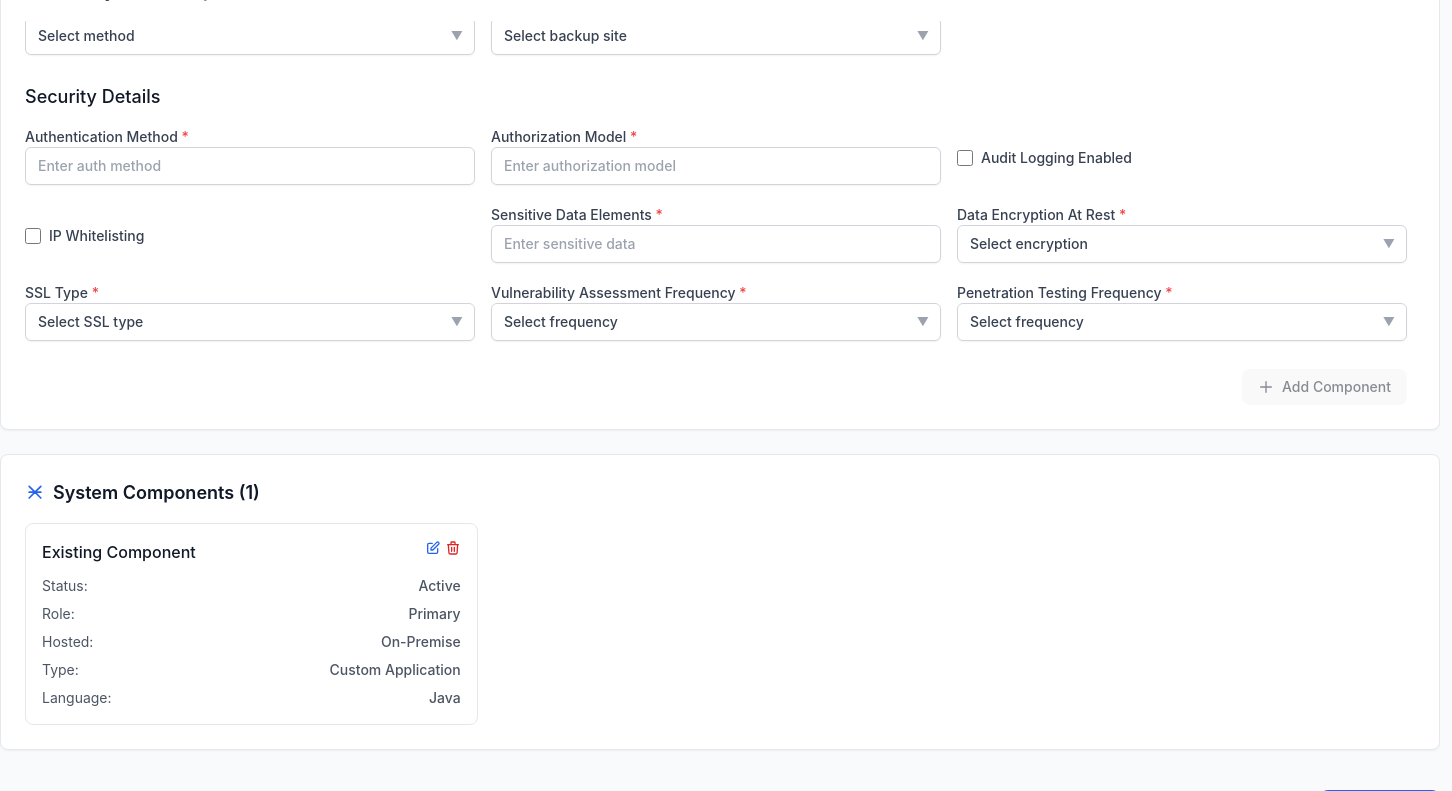
Test: SystemComponentStep › Component Management › preserves existing components when adding new one
(page scrolled)
Expected: the heading "Existing Component" is shown, [42,540,196,564]
Click the button "Add Component".
click(1324, 387)  # box [1242,369,1407,405]
(page scrolled)
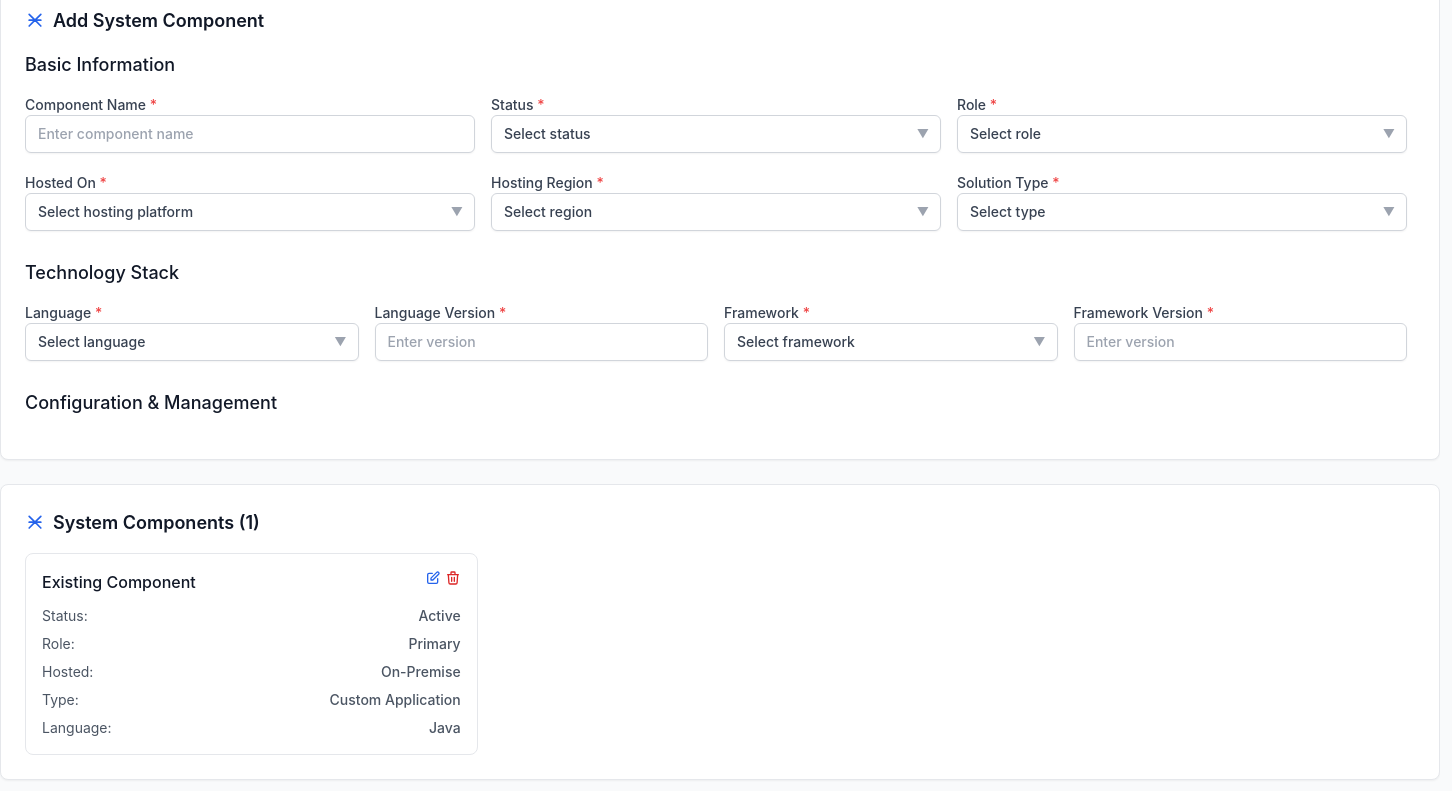
Expected: the heading "Existing Component" is shown, [42,570,196,594]
Expected: the field with placeholder "Enter component name" is shown, [25,115,475,153]
